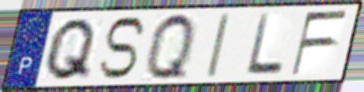F: (289, 8, 351, 78)
I: (204, 11, 233, 80)
L: (243, 12, 286, 78)
Q: (41, 16, 99, 83), (144, 10, 197, 83)
S: (96, 15, 148, 82)
